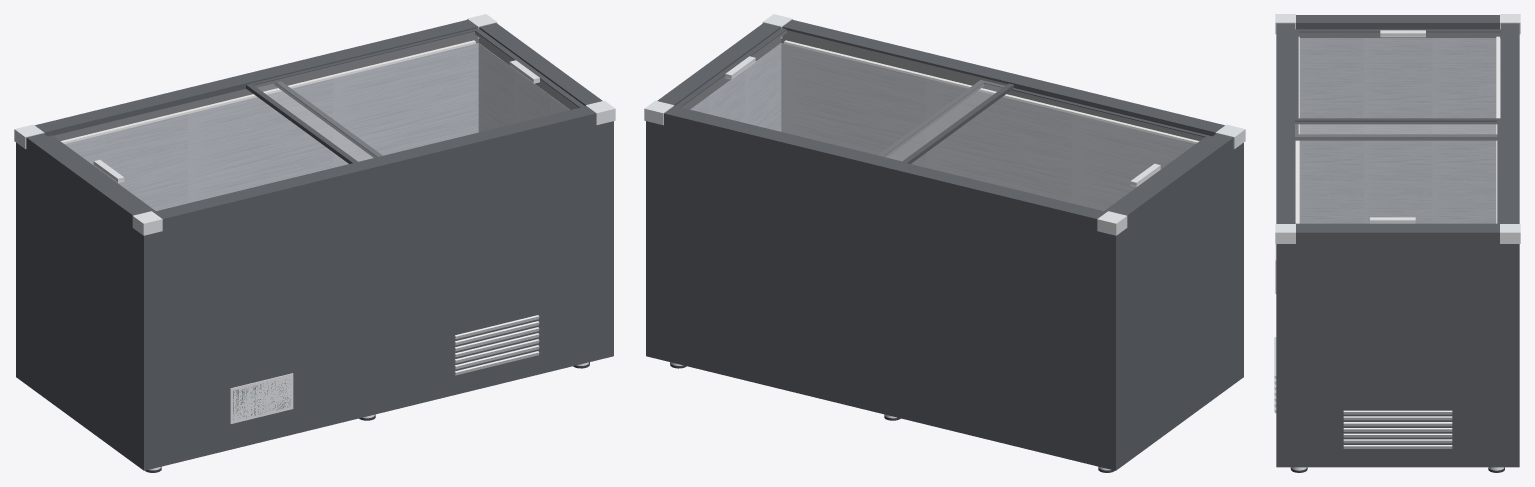
File: freezer.glb
The picture shows the model from 3 angles, left to right: view 1: azimuth 30°, elevation 25°; view 2: azimuth 150°, elevation 25°; view 3: azimuth 270°, elevation 25°; orthographic projection. The views are drawn at different scales.
Visible parts, largest first — view 1: Mesh_0.001; view 2: Mesh_0.001; view 3: Mesh_0.001.
Boxes of the visible parts, box(x1,y1,x2,y2) form: Mesh_0.001: box(14, 14, 615, 472); Mesh_0.001: box(644, 14, 1245, 472); Mesh_0.001: box(1274, 14, 1520, 472).
Size of the model in its own units: 1.81 by 0.954 by 0.8614.
Materials: 7 (2 with a texture image).
